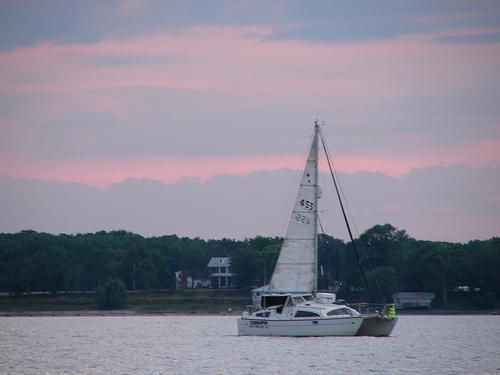Ship: (238, 119, 399, 338)
